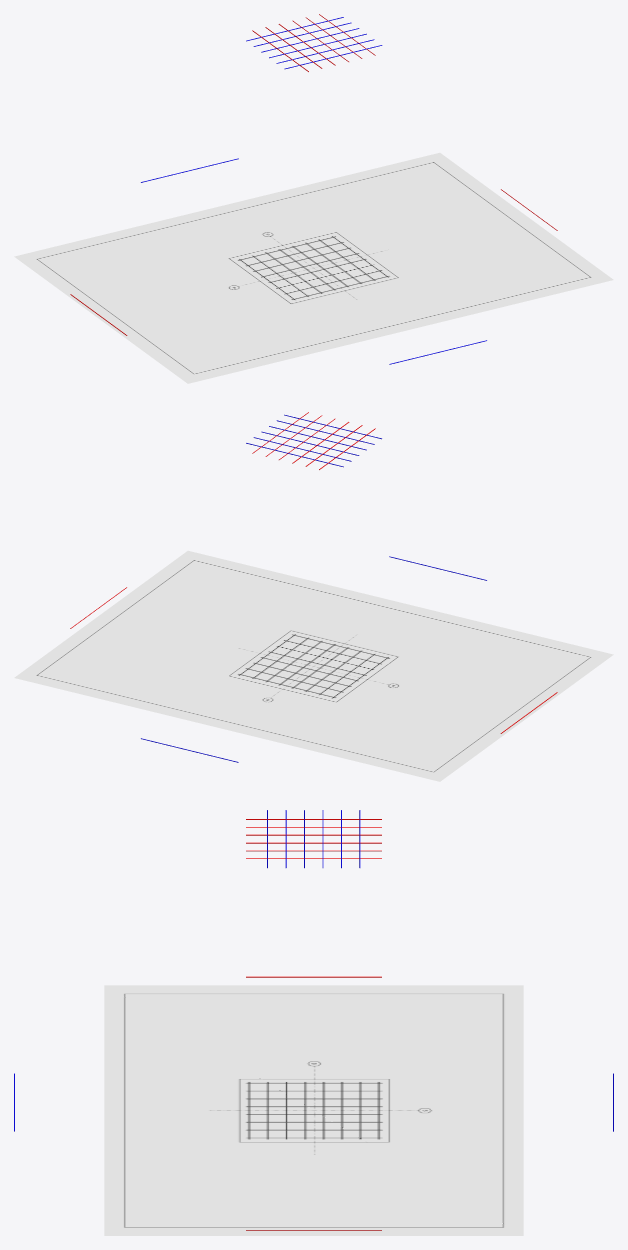
The model's file is 01ベース筋.glb.
3 renders of one model, top to bottom at view 1: azimuth 30°, elevation 25°; view 2: azimuth 150°, elevation 25°; view 3: azimuth 270°, elevation 25°, orthographic. The views are drawn at different scales.
Parts seen in each view (by area): view 1: 平面; view 2: 平面; view 3: 平面.
Boxes of the visible parts, x1,y1,x2,y2 form: 平面: (14, 152, 613, 383); 平面: (14, 550, 613, 781); 平面: (104, 985, 523, 1235).
Size of the model in its own units: 6009 by 3005 by 6010.
4 materials, 1 textured.
